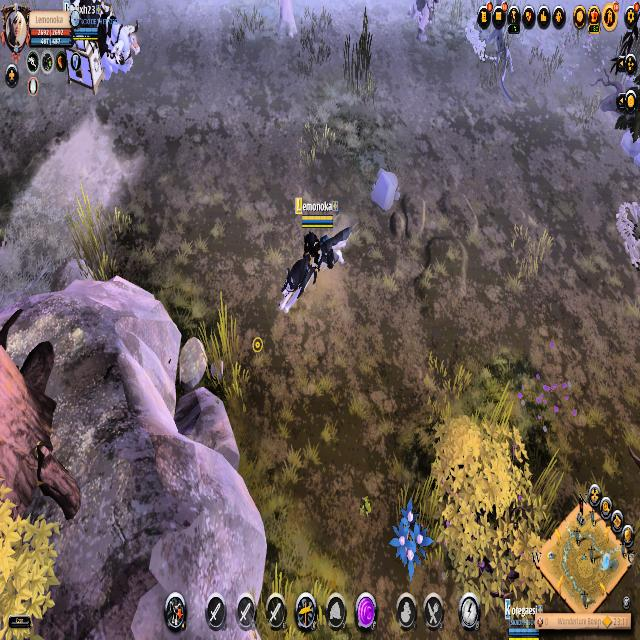fiber tier 4: (389, 498, 434, 582)
rock tier 1: (369, 168, 403, 216)
